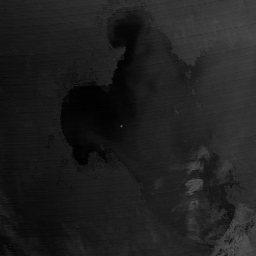Target: (118, 123, 123, 129)
